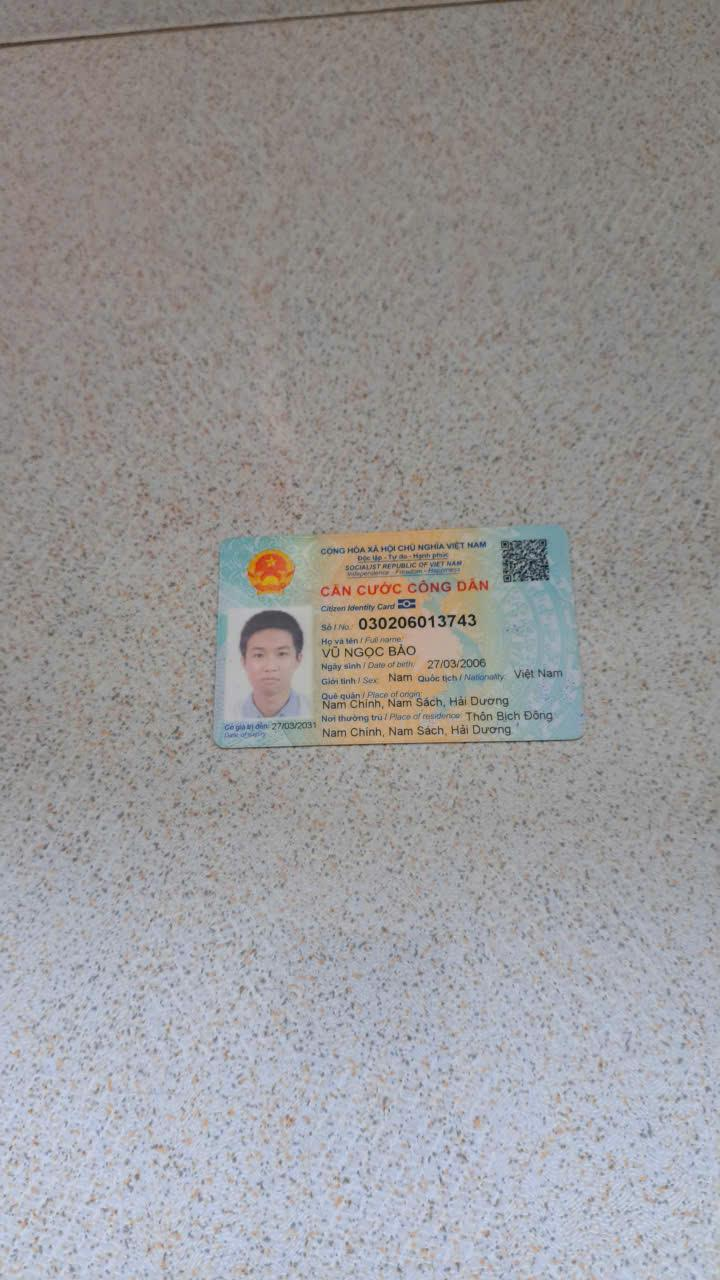cccd: (200, 512, 594, 753)
